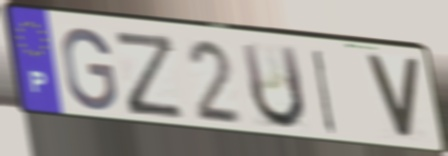2: (184, 37, 244, 127)
G: (59, 26, 120, 114)
I: (310, 46, 338, 137)
U: (238, 40, 309, 133)
V: (361, 51, 423, 145)
Z: (111, 28, 187, 122)
